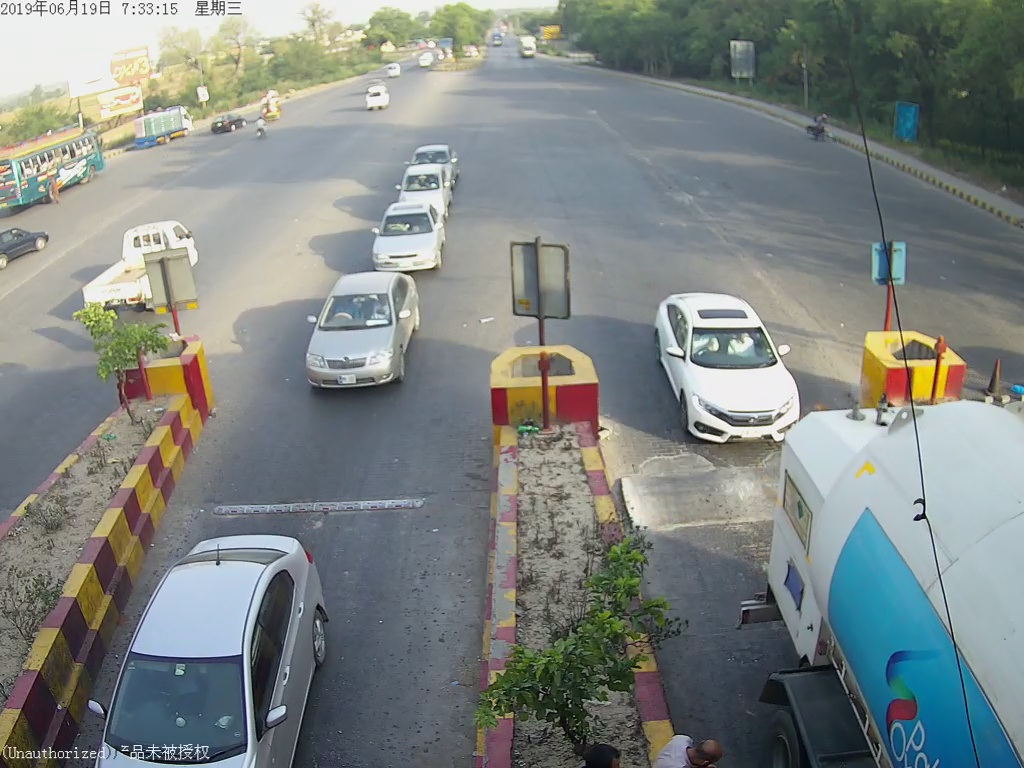Cat-1: (644, 283, 798, 444), (302, 269, 424, 393), (371, 196, 451, 276)
